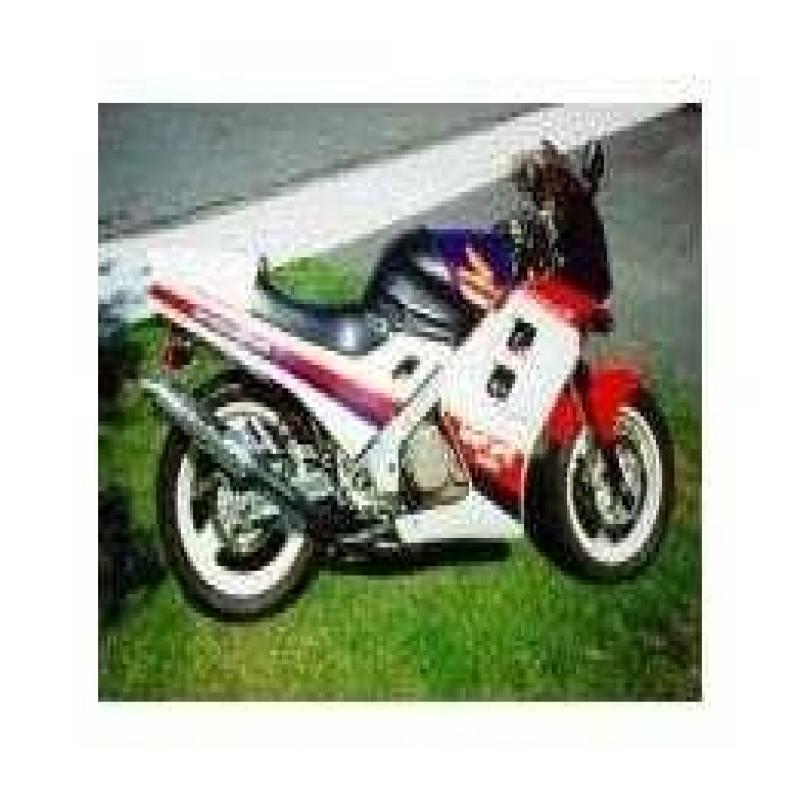bike: (132, 112, 674, 626)
